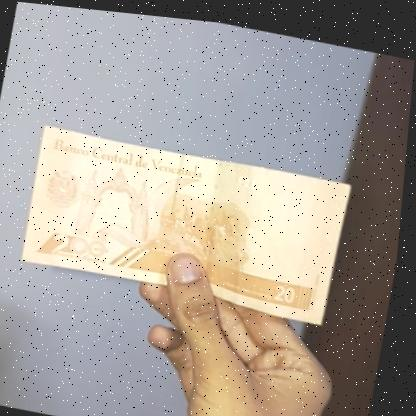twenty-back-vef: (22, 122, 355, 316)
